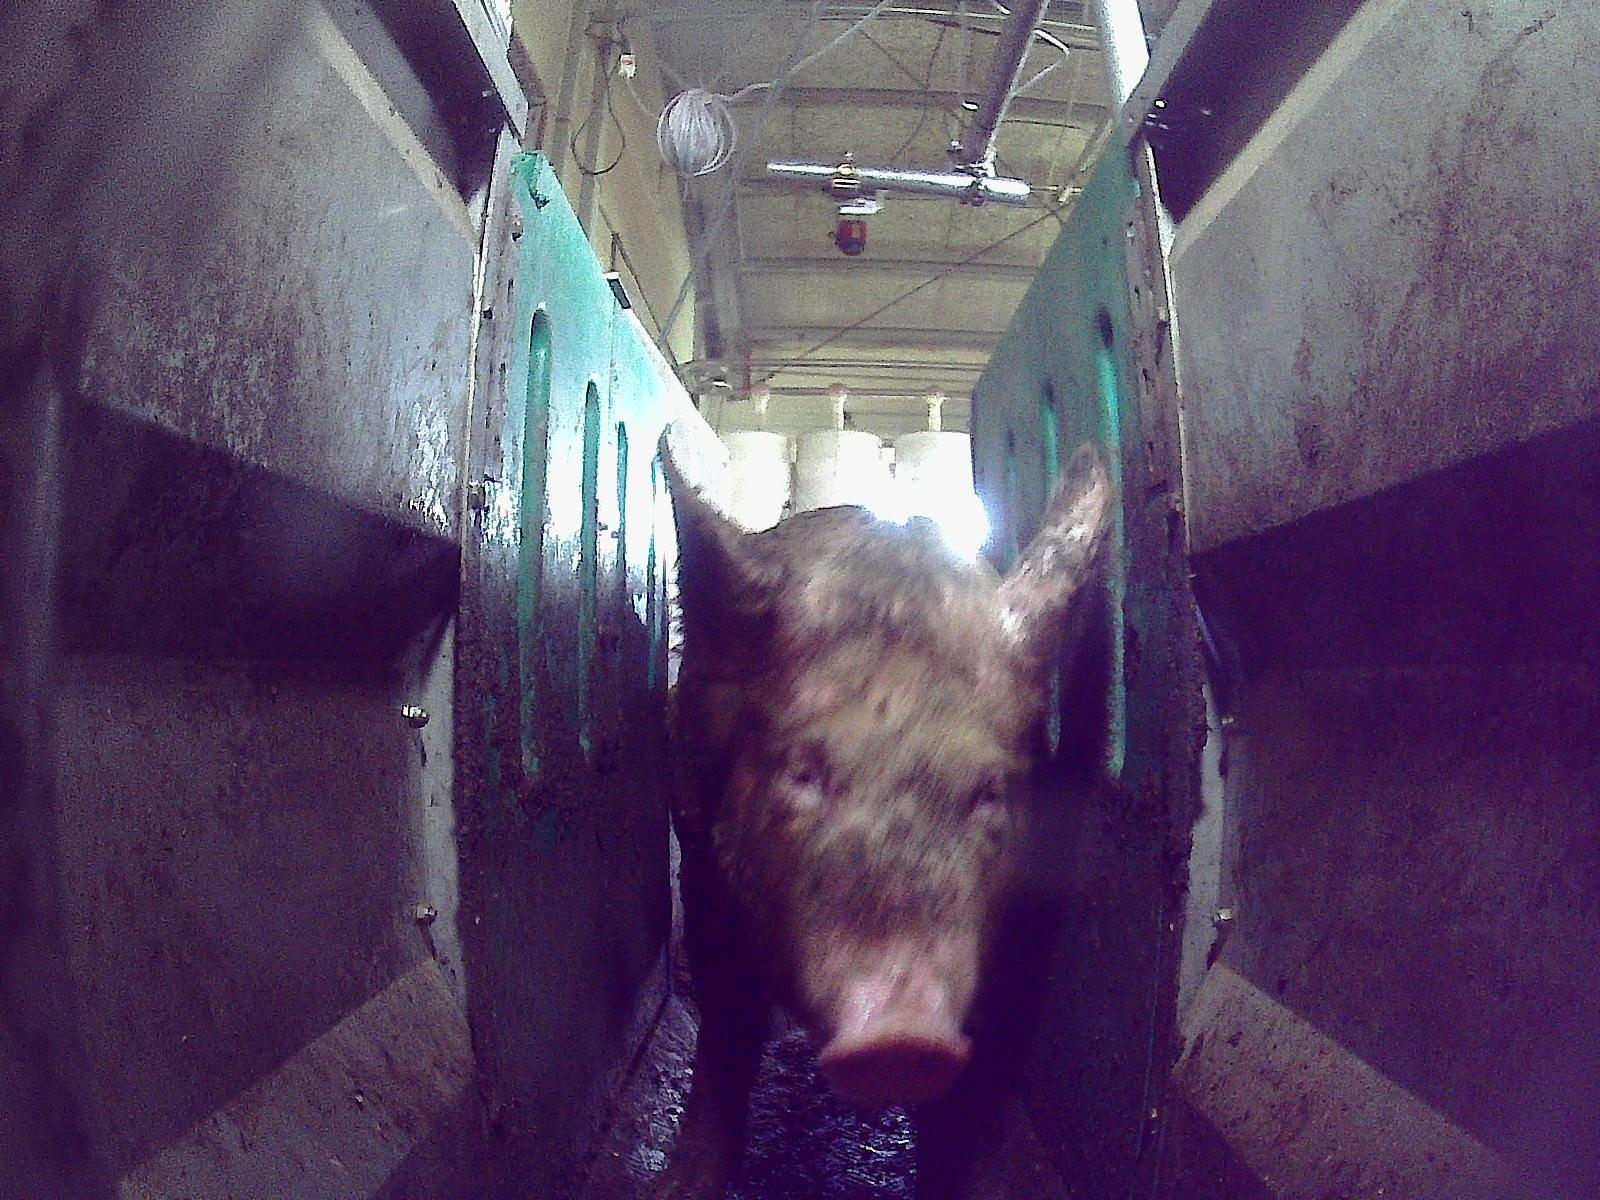Face: (732, 604, 1018, 1102)
